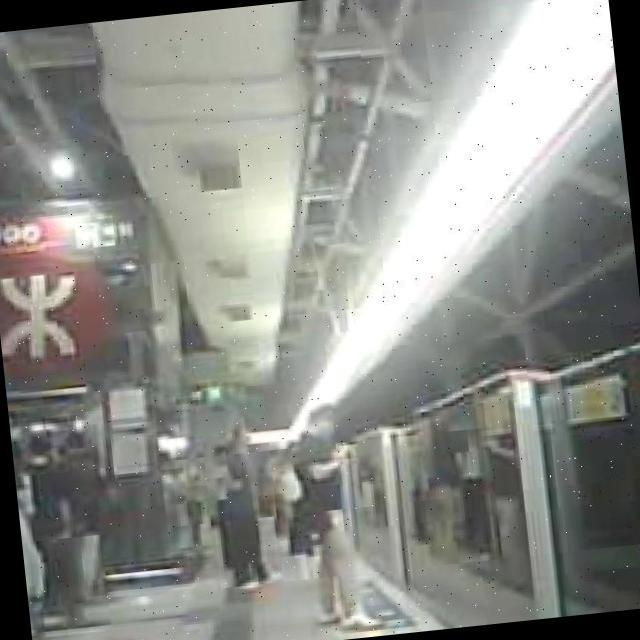person: (285, 400, 382, 635), (208, 422, 274, 592)
